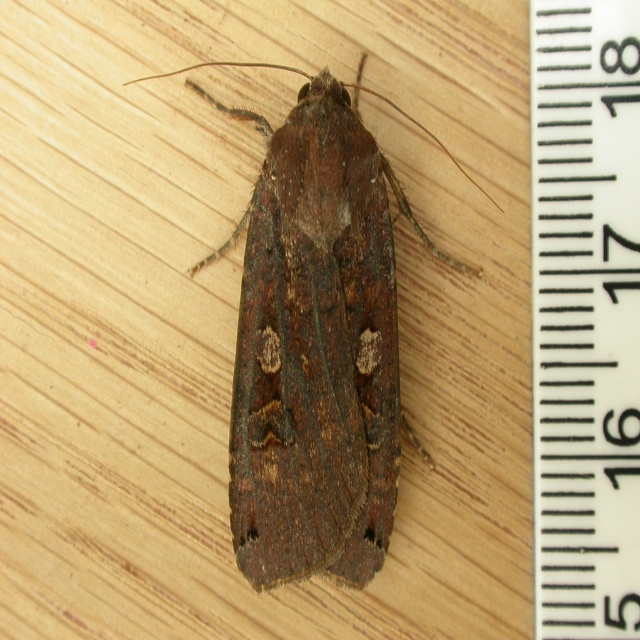Moths and butterflies: (120, 48, 507, 601)
